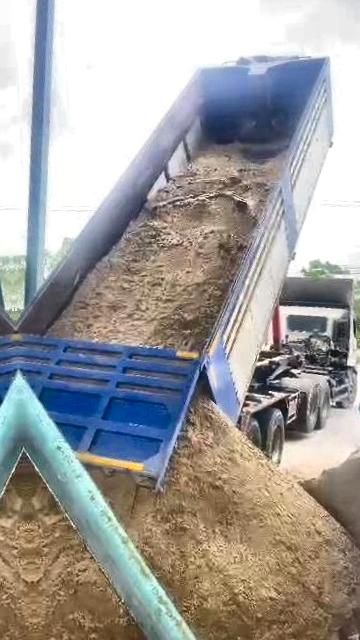sand: (91, 408, 360, 640), (49, 148, 281, 350), (27, 469, 160, 640)
